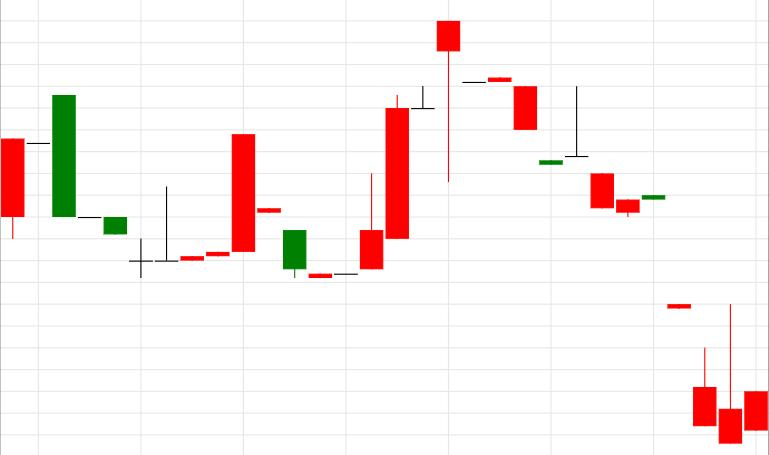hanging_man_fall: (309, 21, 460, 278)
inverse_hammer_rise: (565, 86, 742, 444)
